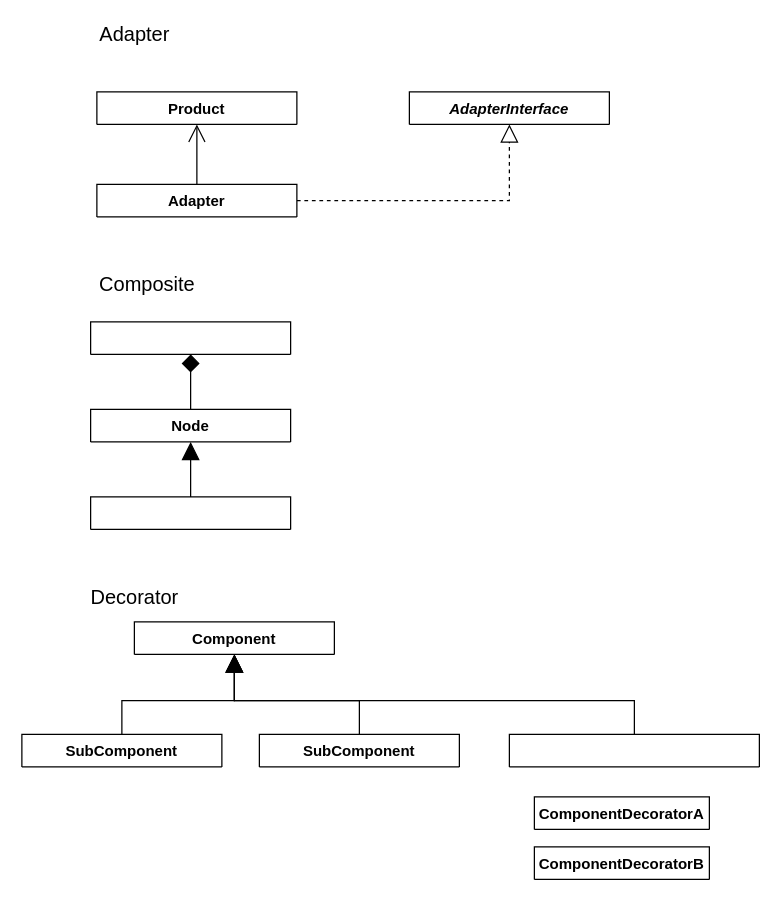
The diagram is 781 pixels wide and 901 high, and some of its shapes have lost their labels. The shapes that lost their labels are listed below. From the top down, each one's centre as x and y in pixels, then its label:
At (x=190, y=337): "Container".
At (x=190, y=512): "SubNode".
At (x=633, y=750): "AbstractComponentDecorator".
